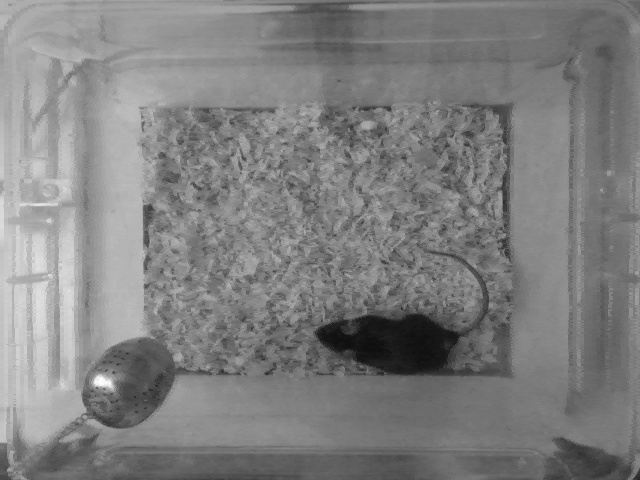mice: (310, 248, 490, 377)
